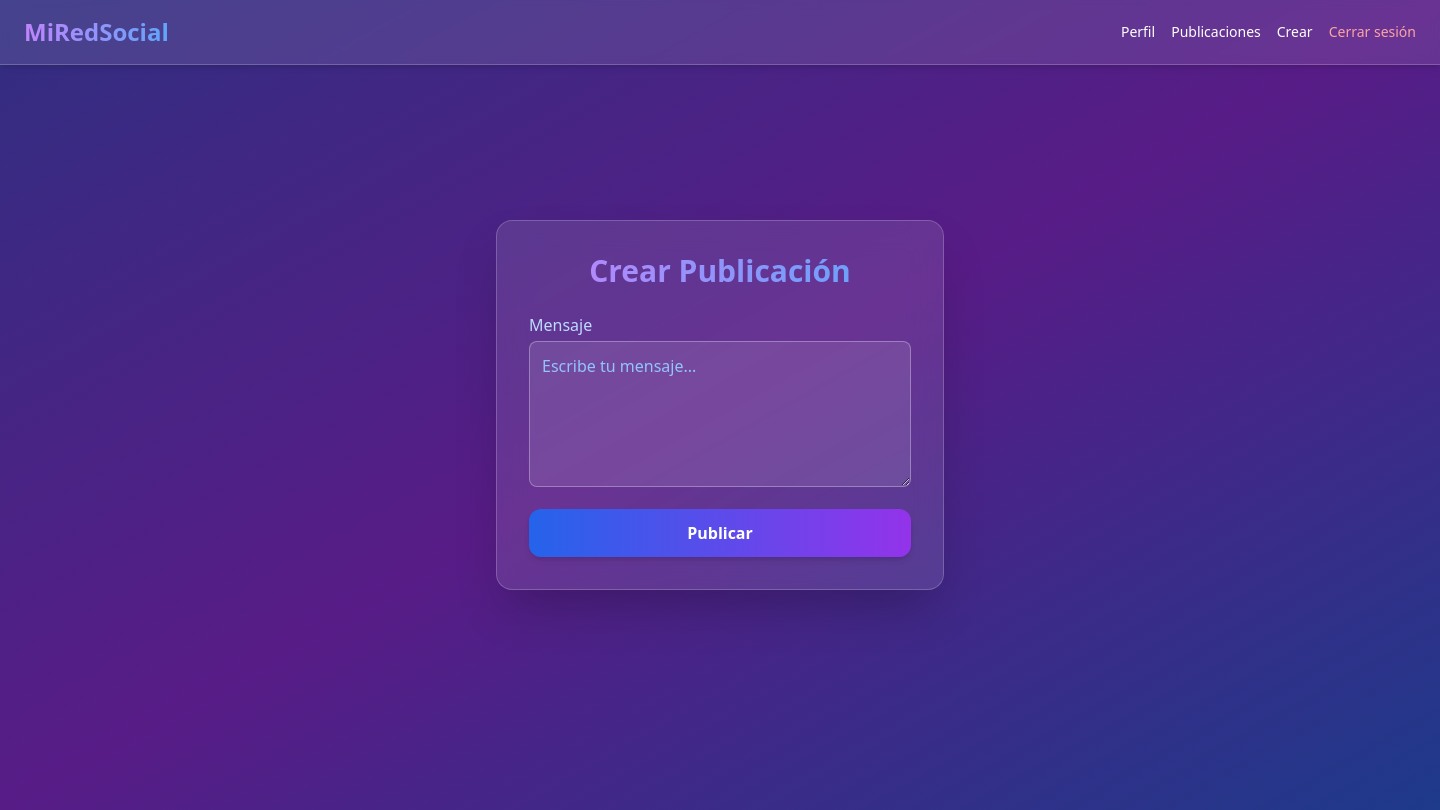
Scenario: CreatePost › muestra errores si el mensaje está vacío
Click the button "Publicar".
click(720, 533)  # box [529,509,911,557]
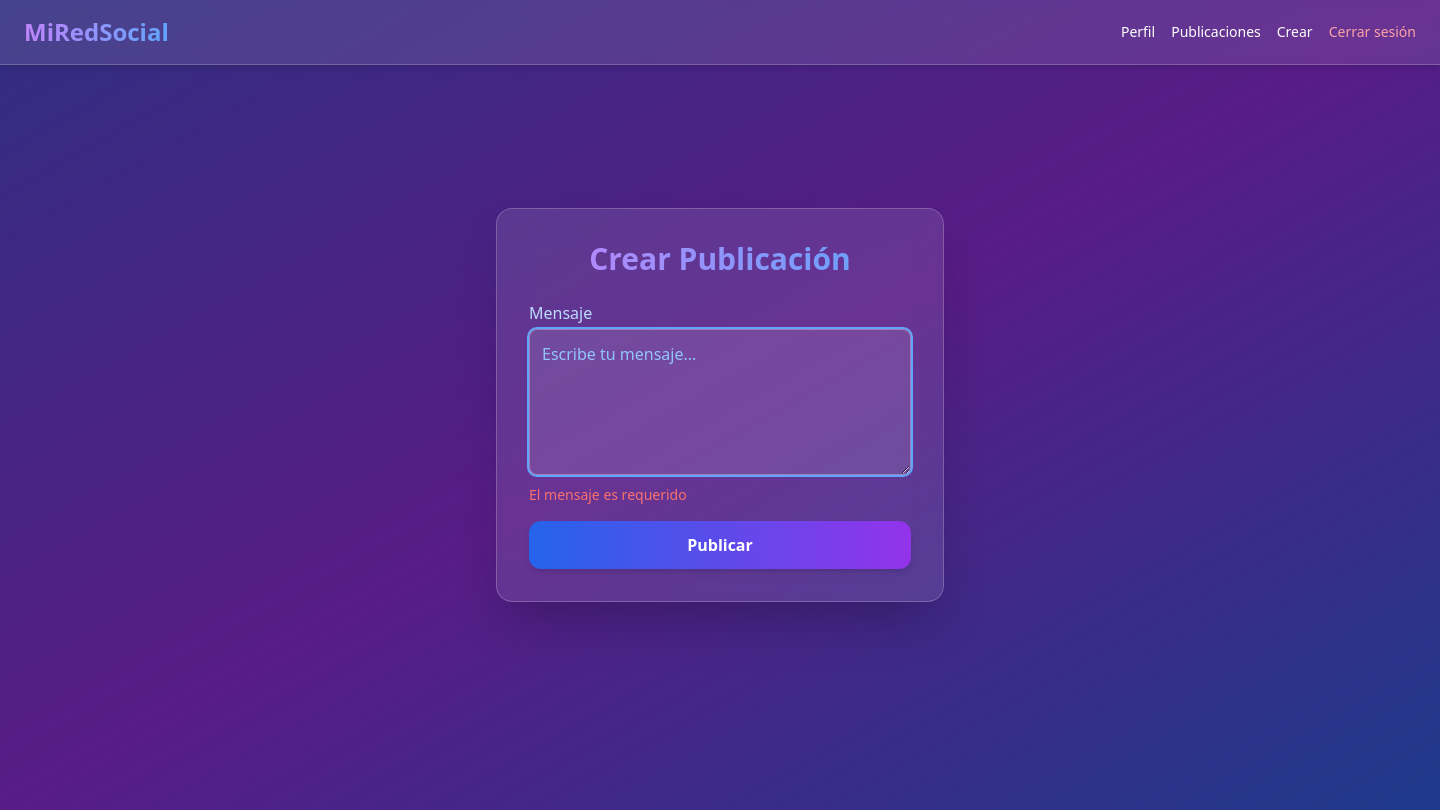
Check: the text "El mensaje es requerido" is shown, box [529,485,687,504]
